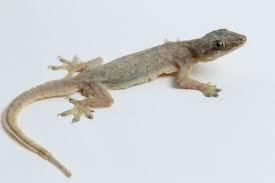lizard: (5, 27, 248, 177)
